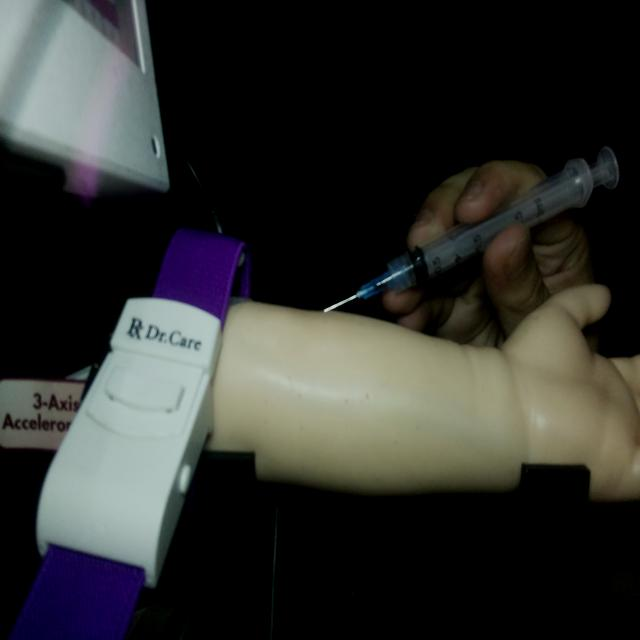18 degrees: (321, 142, 621, 315)
